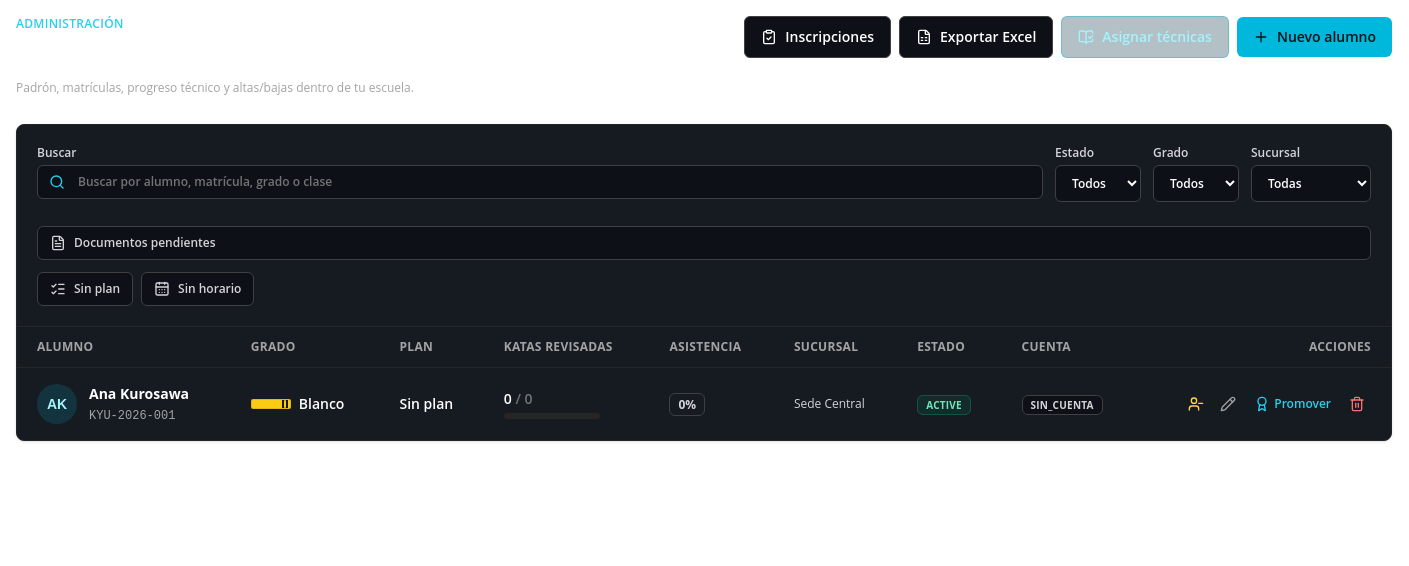
F3-09 · padrón de alumnos (filtro de búsqueda) › muestra el estado vacío cuando no hay coincidencias
The image size is (1409, 566).
Type "zzzz" into the search field.
click(540, 182); type("zzzz")  # box [37, 165, 1043, 199]
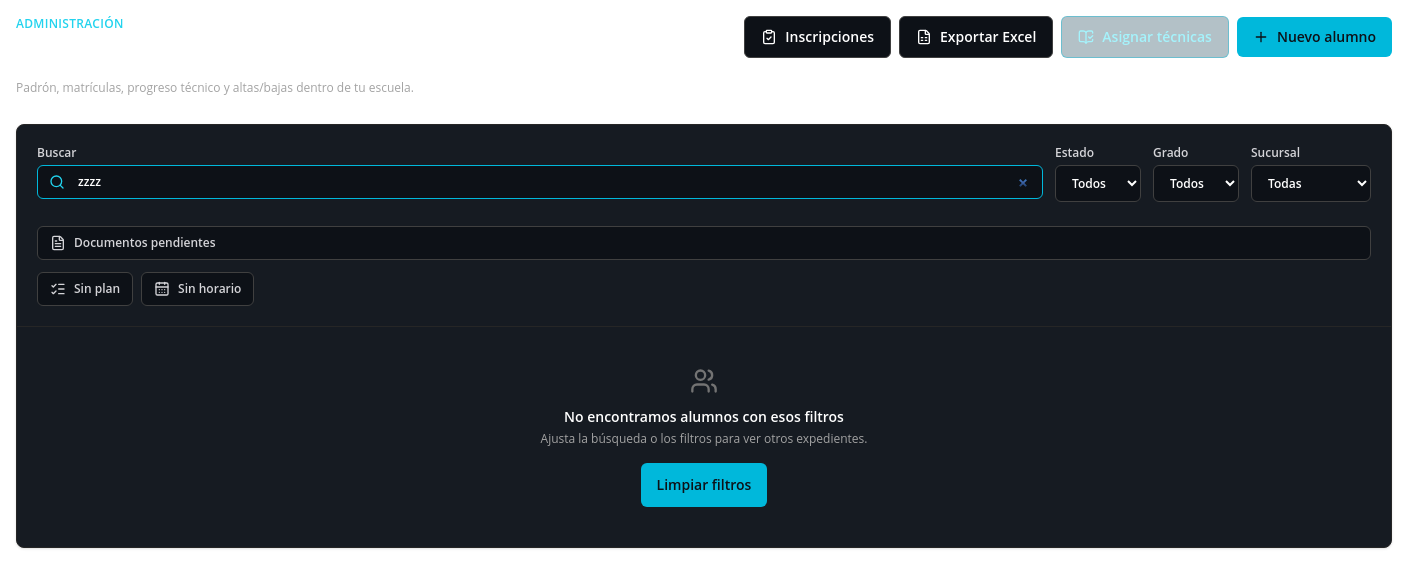
Now the text "No encontramos alumnos con esos filtros" is shown, box [564, 407, 844, 426]
